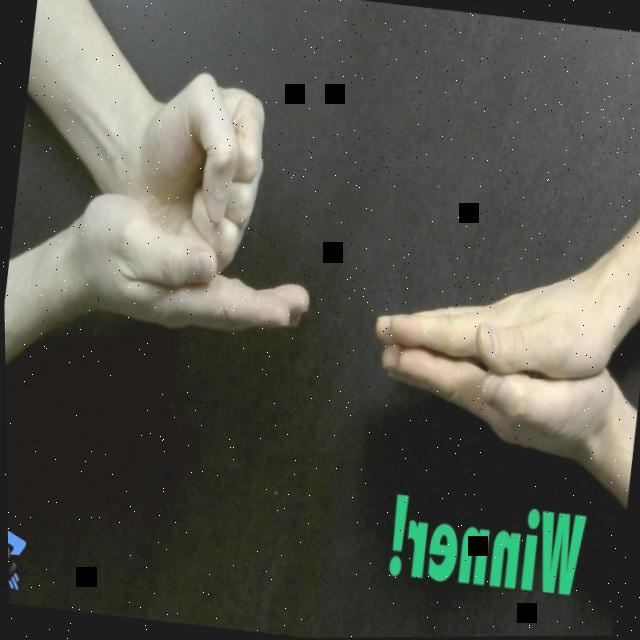Paper: (368, 213, 624, 392)
Rock: (120, 65, 272, 272)
